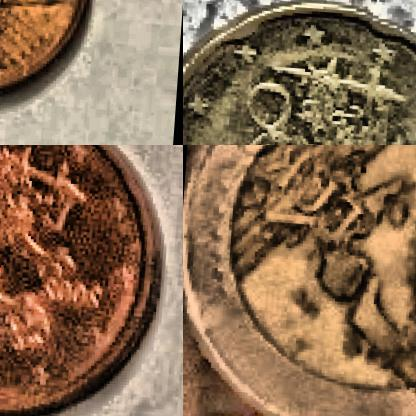coin: (183, 145, 415, 415), (0, 145, 173, 415), (183, 0, 415, 144), (0, 0, 103, 106)
